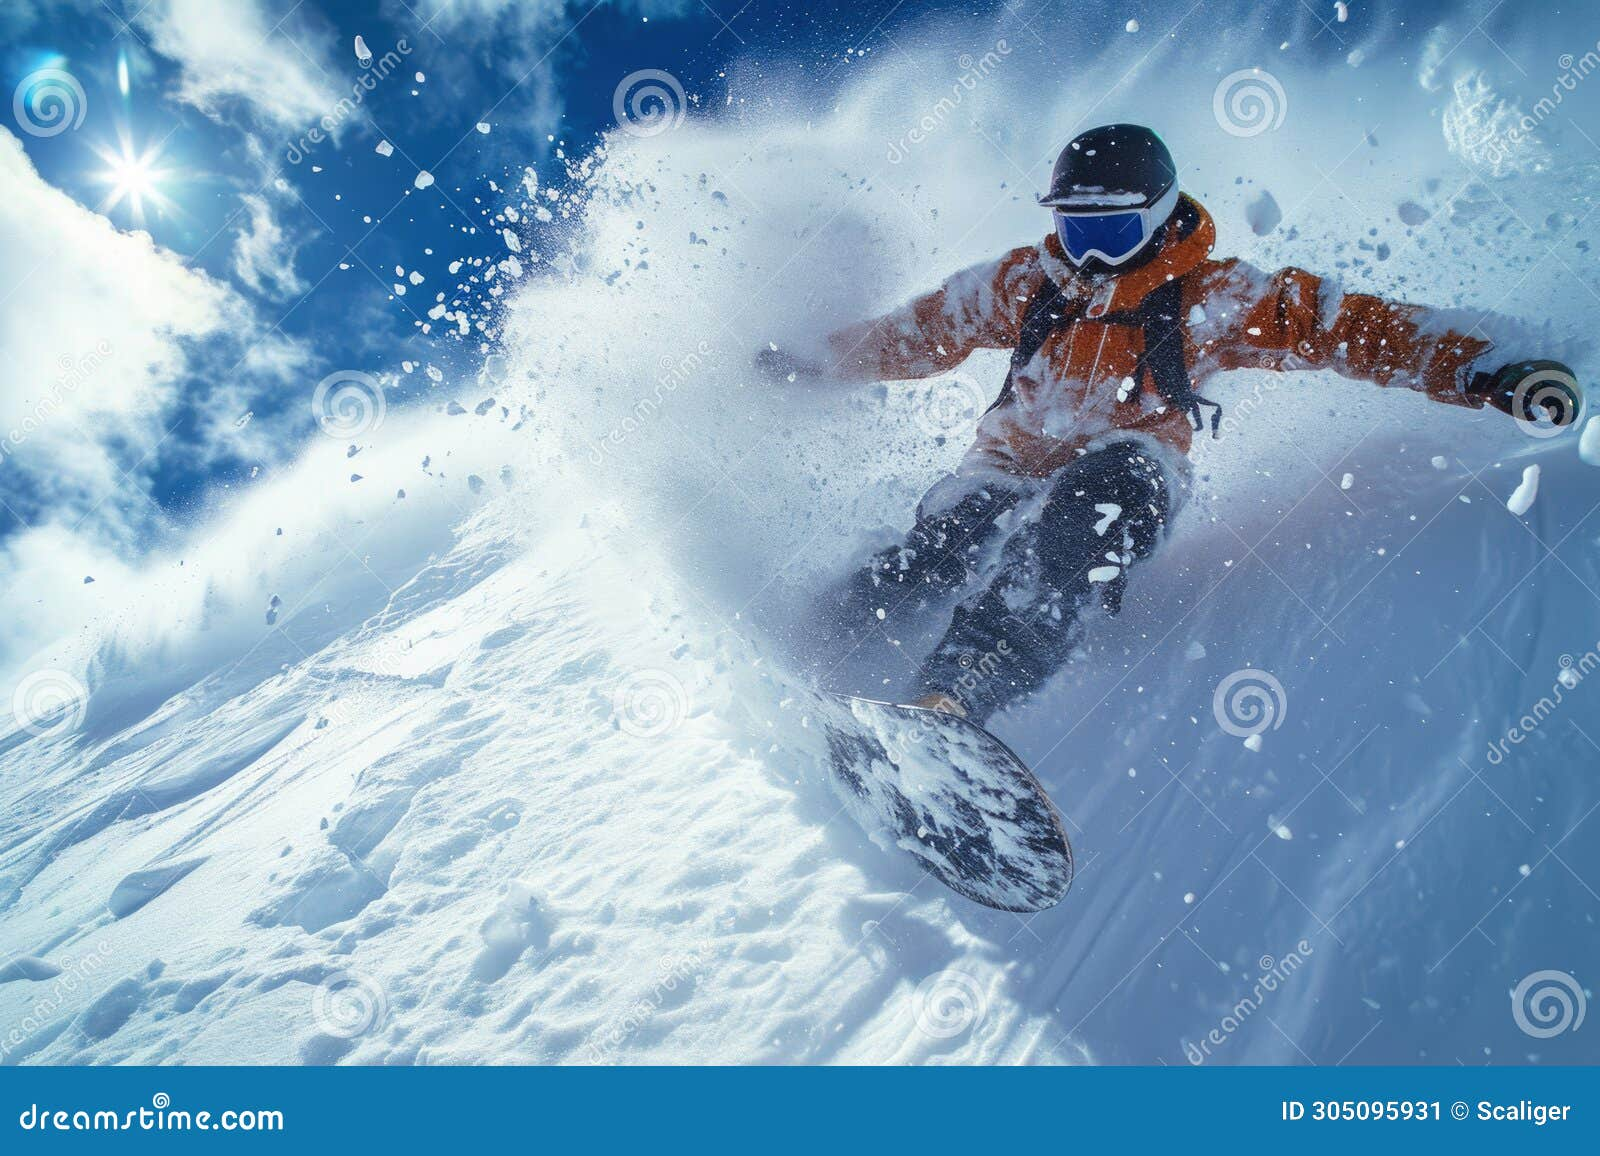snowboarder: (753, 124, 1573, 905)
